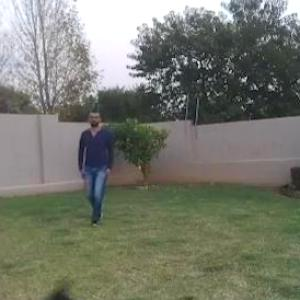follow: (79, 110, 115, 224)
